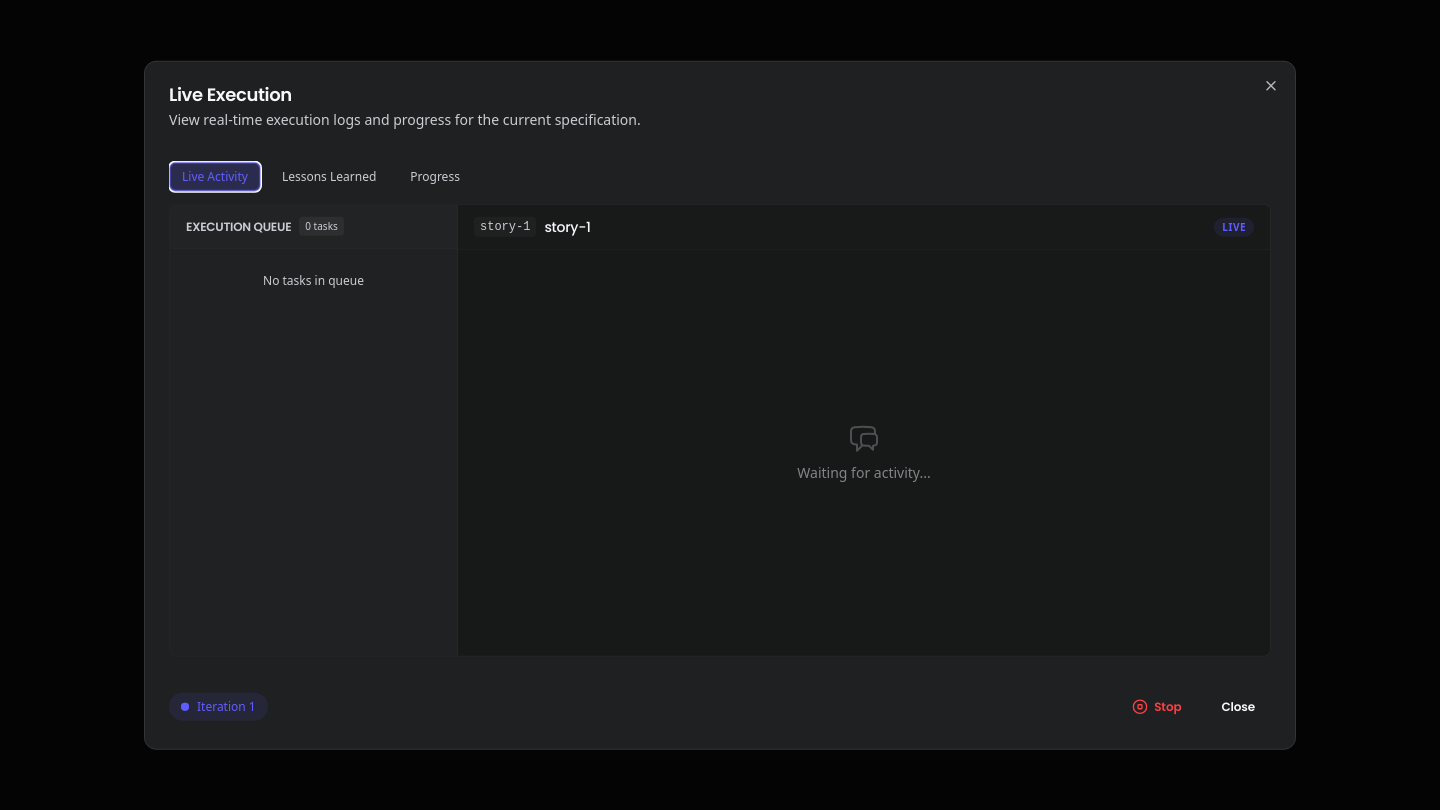
ExecutionLiveModal › lessons learned tab › should show empty lessons state when no lessons are available
Step 1. Click the button "Lessons Learned" → (329, 177), box [269, 162, 389, 192]
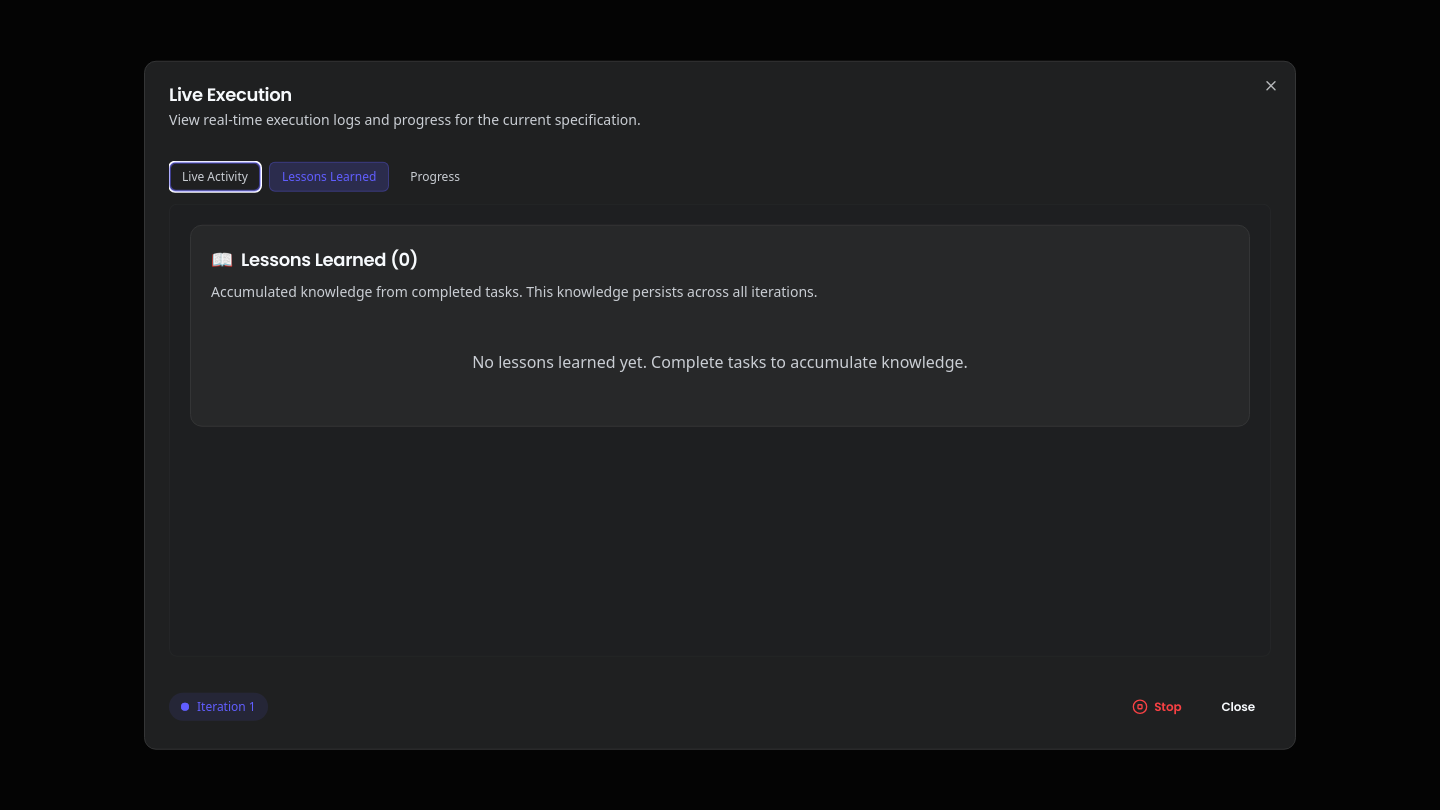
Expected: the text "No lessons learned yet" is shown, [472, 351, 968, 373]
